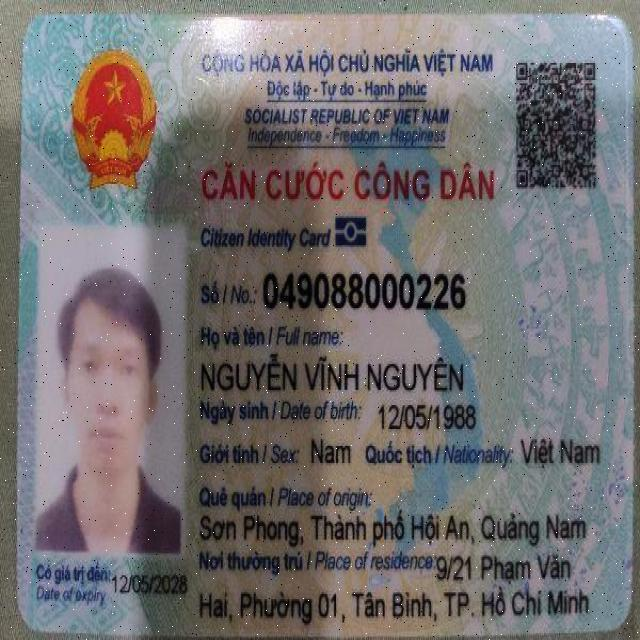current_place: (196, 582, 594, 628), (435, 550, 572, 584)
dob: (377, 397, 479, 433)
expire_date: (109, 574, 190, 597)
gender: (308, 435, 360, 469)
id: (259, 269, 470, 322)
name: (199, 355, 468, 396)
nationality: (517, 429, 605, 473)
origin_place: (196, 511, 589, 550)
